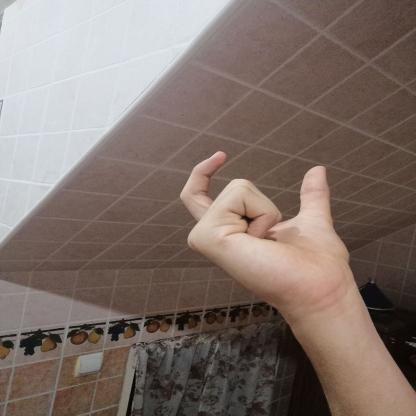NOON: (161, 140, 368, 321)
